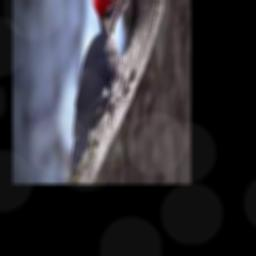Woodpecker: (70, 0, 135, 173)
